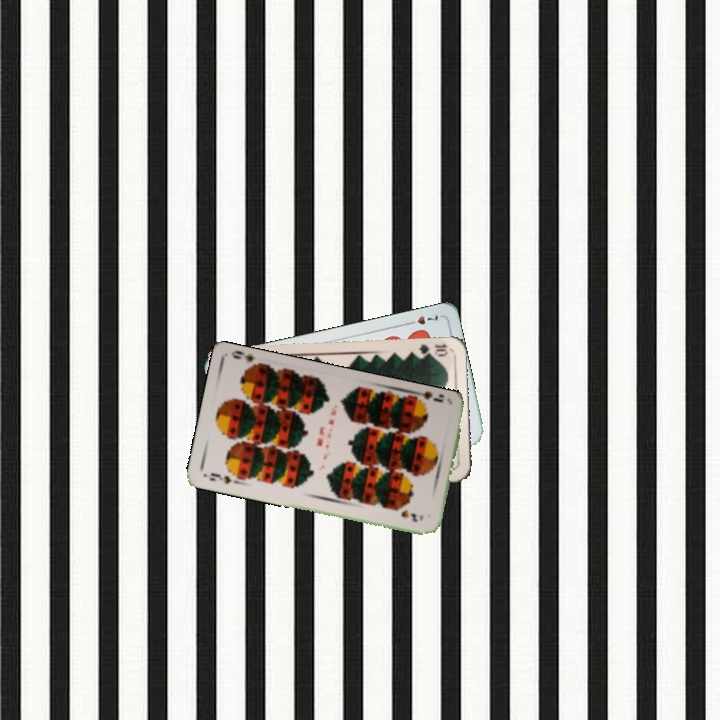G10: (415, 339, 450, 360)
H7: (402, 310, 441, 327)
S9: (411, 387, 446, 406), (205, 469, 242, 486)
